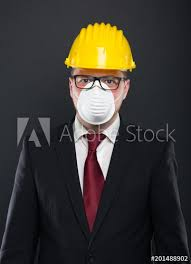Person_wearing_helmet: (56, 22, 140, 93)
